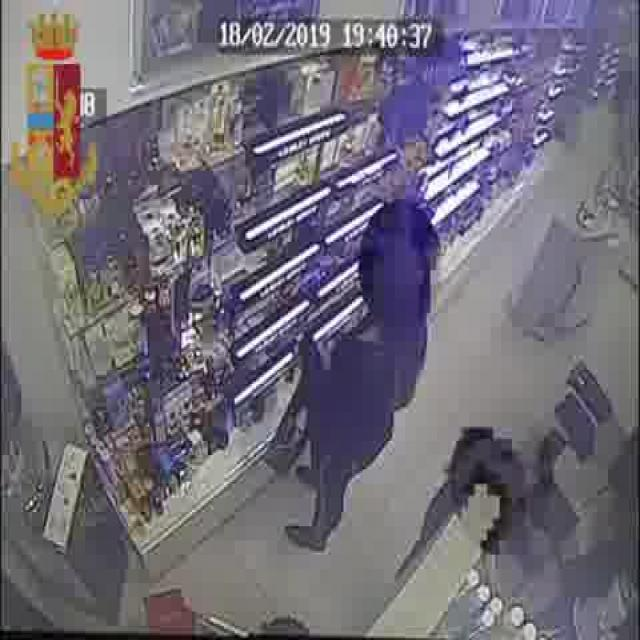persone: (266, 184, 452, 568)
